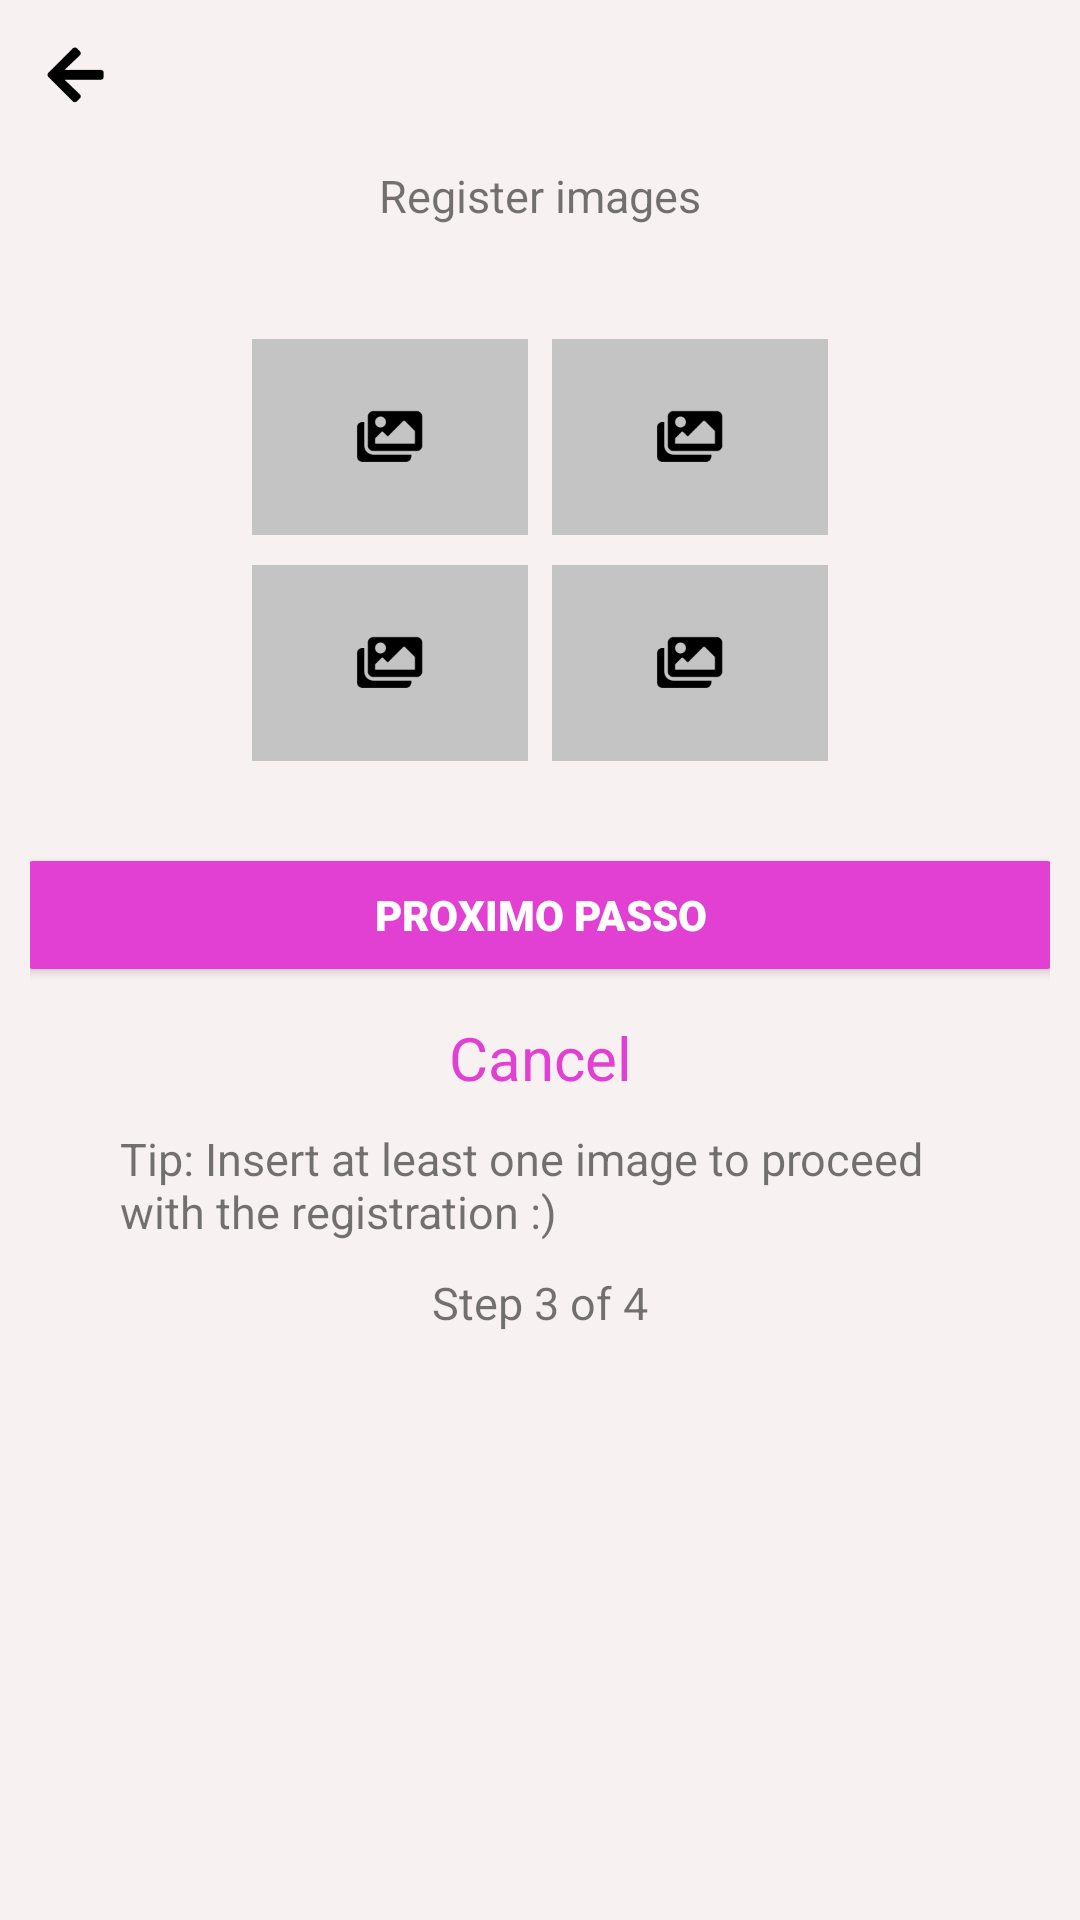

Where to tap for icons on this 1080 x 1920 app screen, as (x,y):
back: (75,74)
